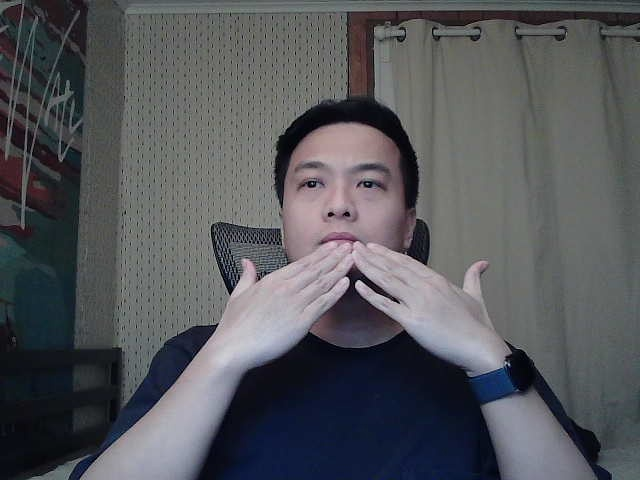Thank You: (187, 233, 540, 381)
